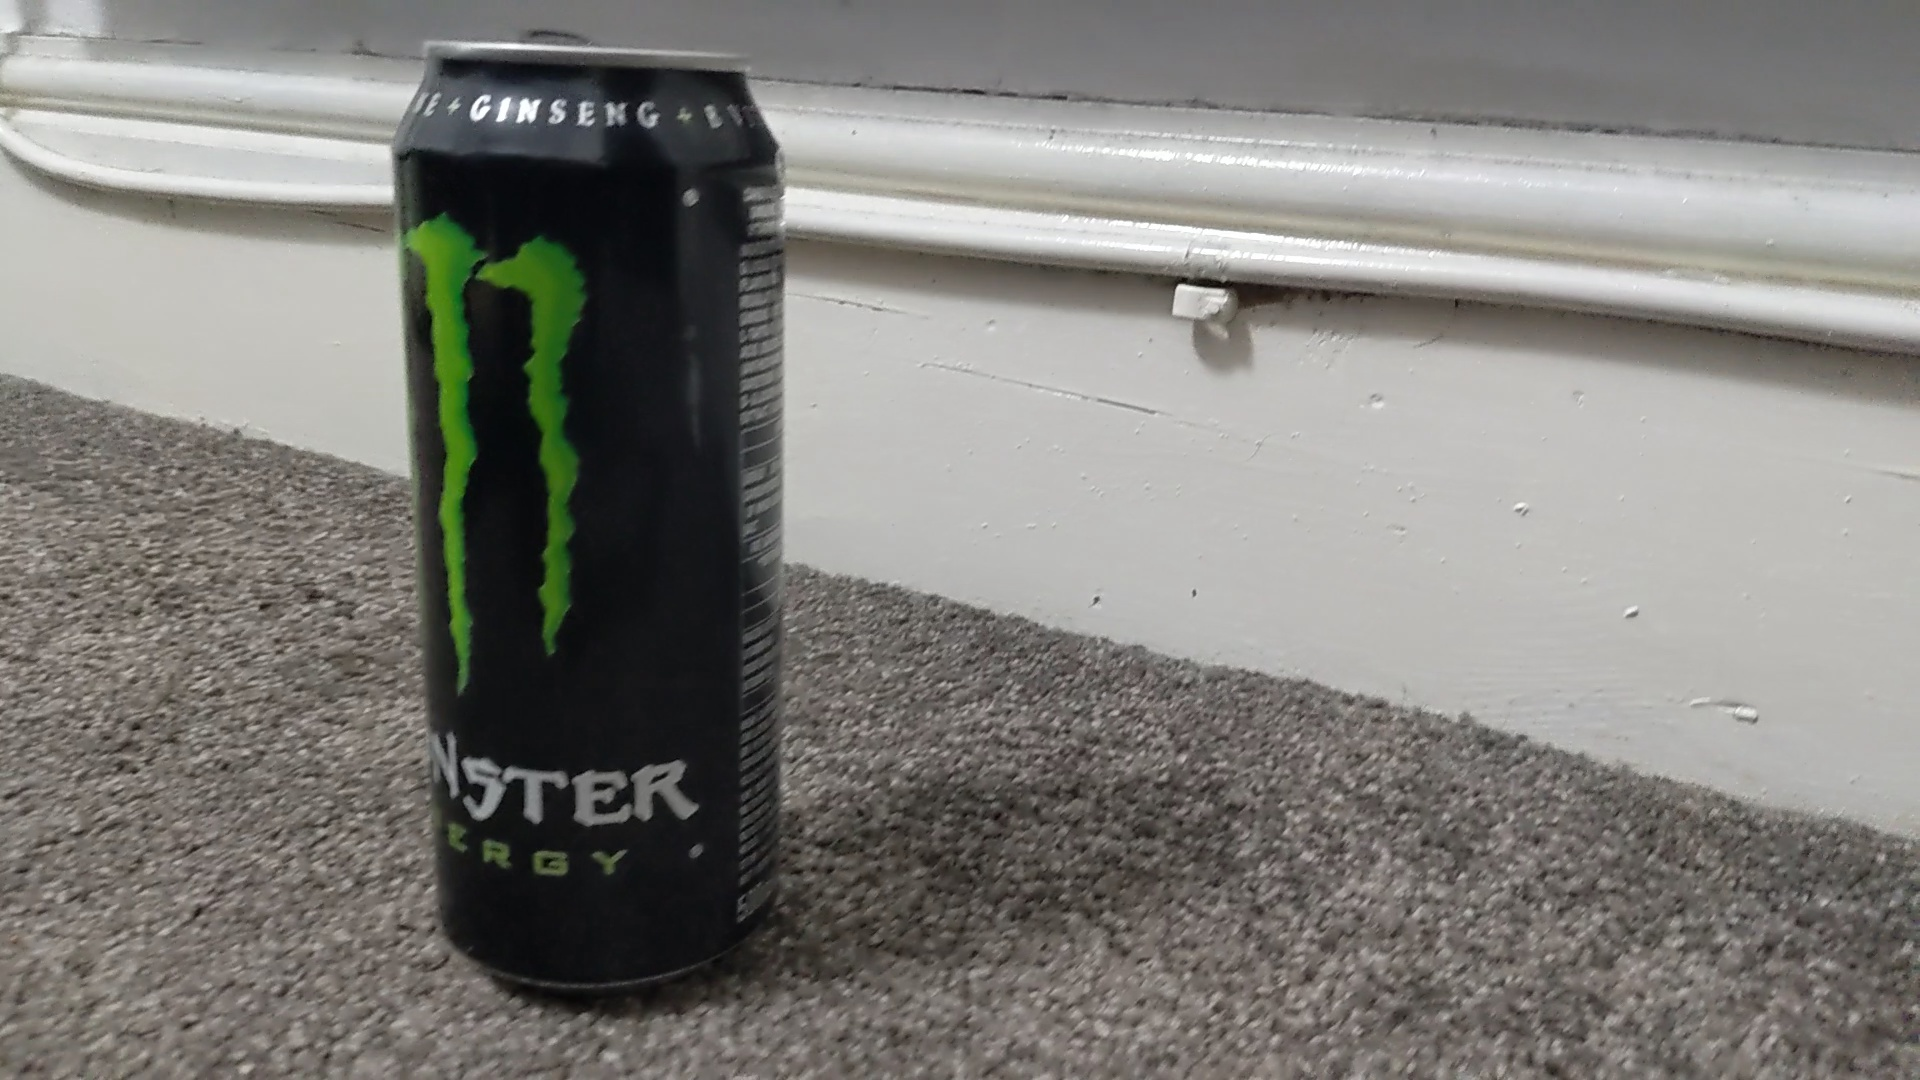monster-original: (393, 42, 789, 994)
